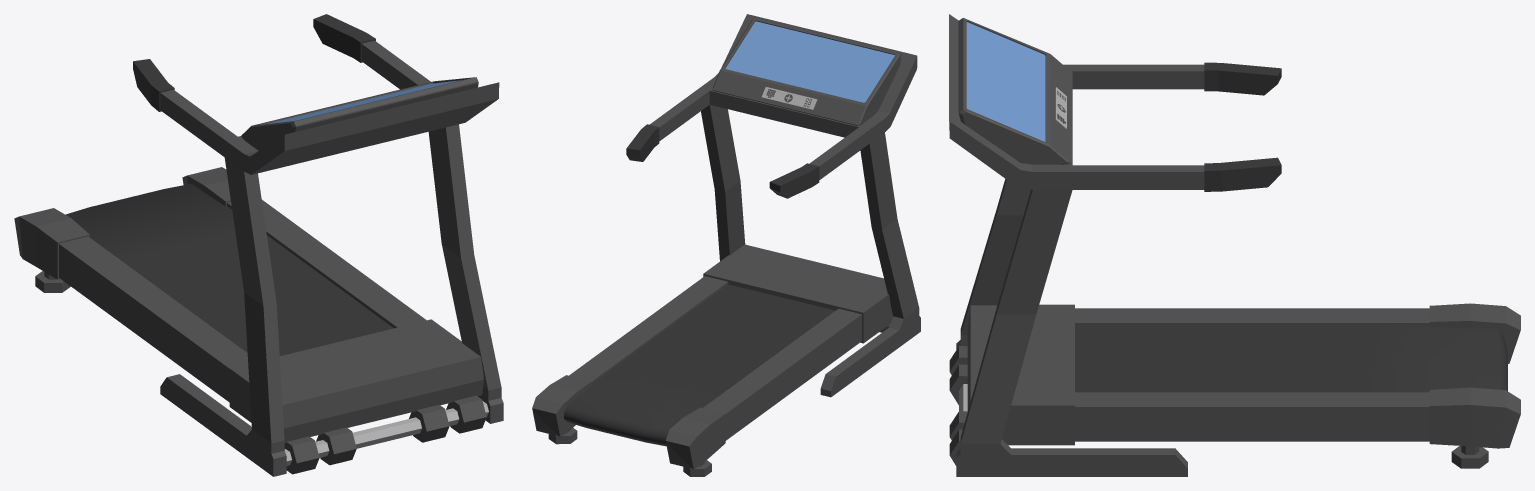
File: Treadmill.fbx
3 renders of one model, left to right at view 1: azimuth 30°, elevation 25°; view 2: azimuth 150°, elevation 25°; view 3: azimuth 270°, elevation 25°, orthographic. The views are drawn at different scales.
Visible parts, largest first — view 1: Cube.008; view 2: Cube.008; view 3: Cube.008.
Boxes of the visible parts, box(x1,y1,x2,y2) form: Cube.008: box(14, 14, 503, 476); Cube.008: box(532, 14, 920, 476); Cube.008: box(949, 14, 1520, 476).
Bounding box in the file's own units: 45.52 × 66.23 × 95.49.
